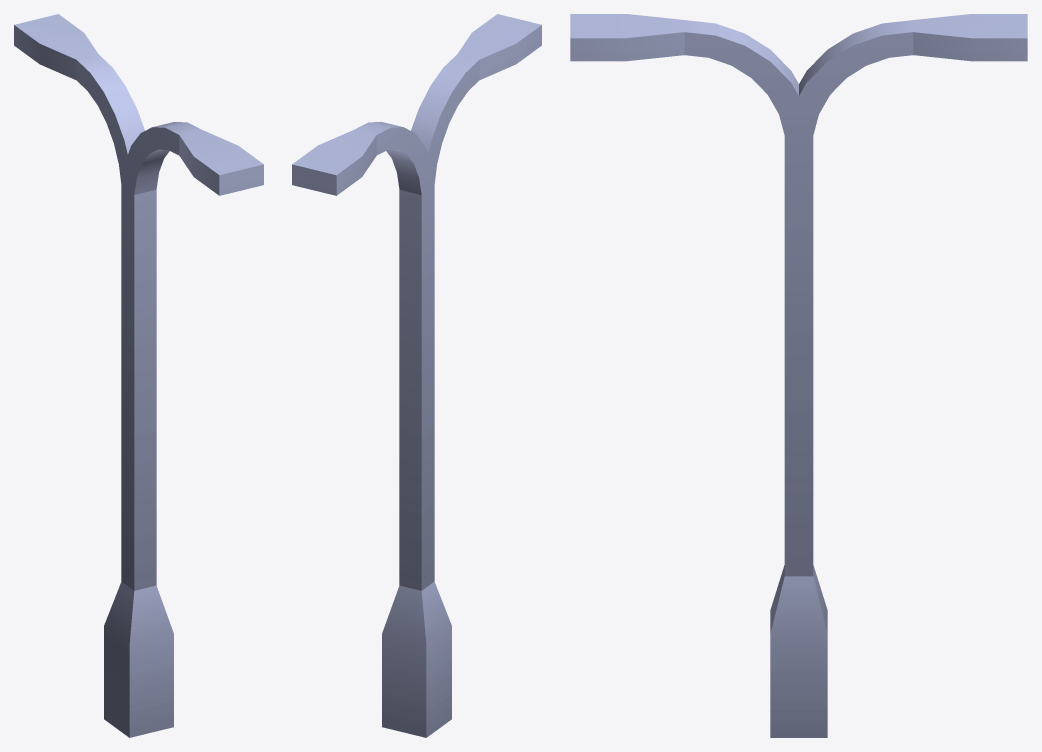
File: light-curved-double.fbx
The picture shows the model from 3 angles, left to right: view 1: azimuth 30°, elevation 25°; view 2: azimuth 150°, elevation 25°; view 3: azimuth 270°, elevation 25°; orthographic projection. The views are drawn at different scales.
Visible parts, largest first — view 1: light-curved-double; view 2: light-curved-double; view 3: light-curved-double.
Part boxes in pixels (x1=…): light-curved-double: x1=14, y1=14, x2=263, y2=737; light-curved-double: x1=292, y1=14, x2=541, y2=737; light-curved-double: x1=570, y1=14, x2=1027, y2=737.
Bounding box in the file's own units: 5 × 67.5 × 40.
